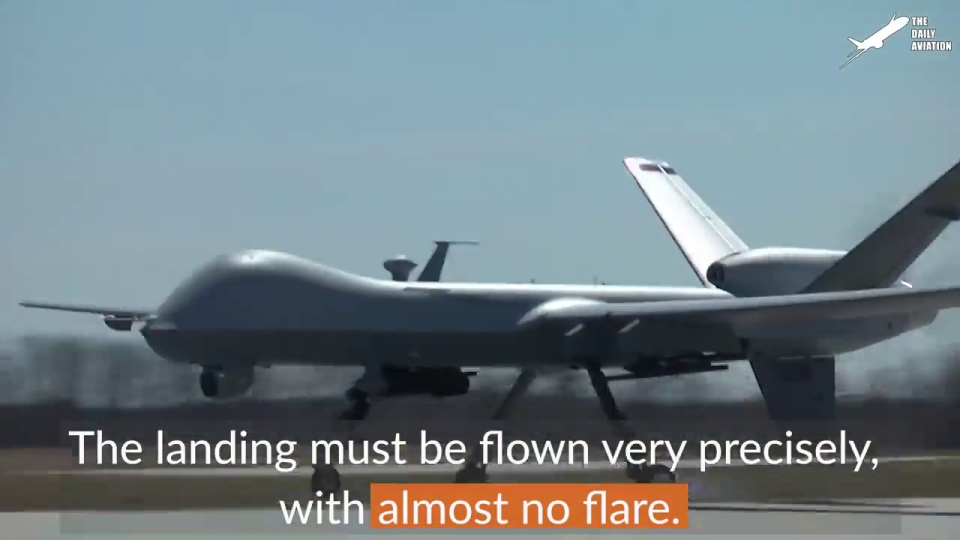military drone: (18, 155, 960, 484)
